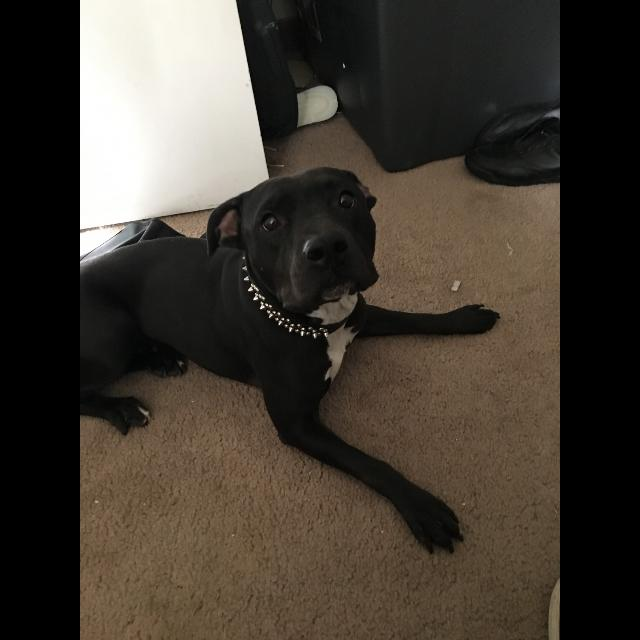am_pit_bull_terrier: (82, 167, 502, 556)
